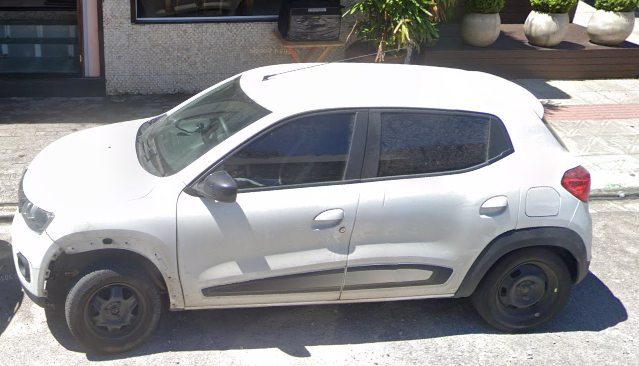car: (13, 63, 597, 354)
